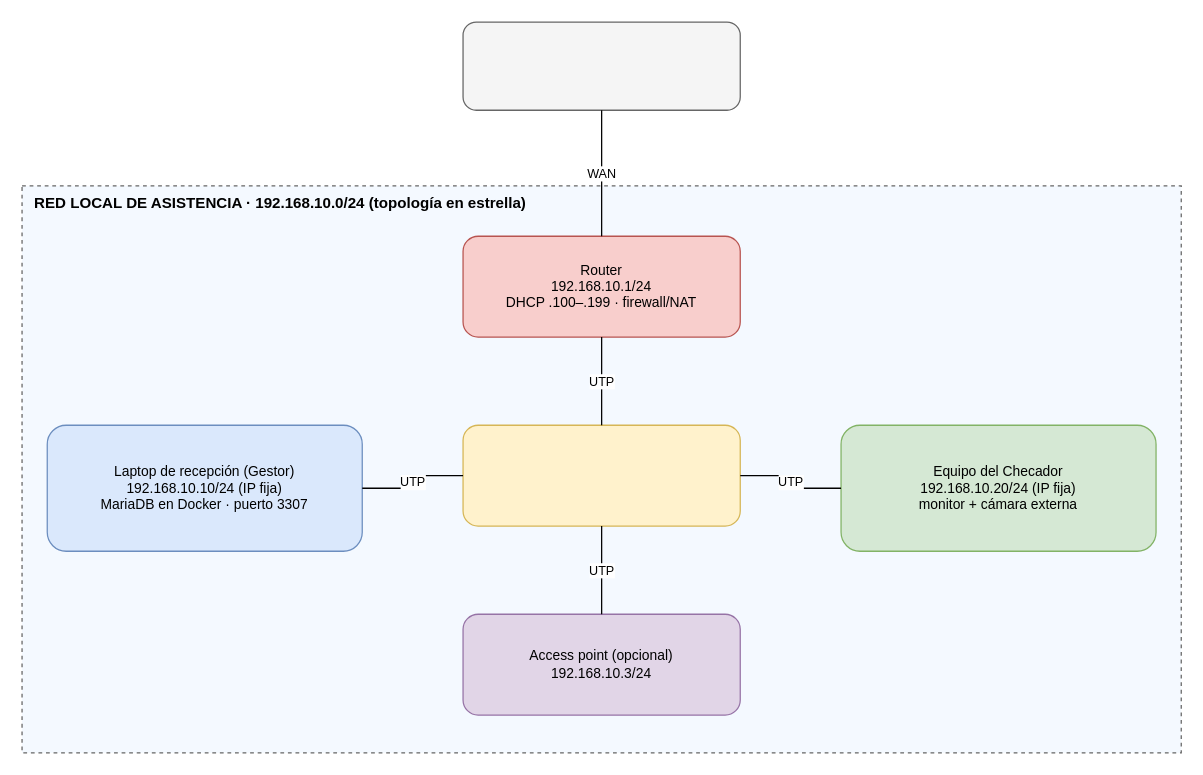
The diagram is 1203 pixels wide and 775 high, and some of its shapes have lost their labels. The shapes that lost their labels are listed below. From the top down, each one's centre as x and y in pixels, then its label:
At [601,65]: "Internet / proveedor (ISP) (solo para actualizaciones)".
At [601,475]: "Switch (centro de la estrella) no administrable: sin IP".
